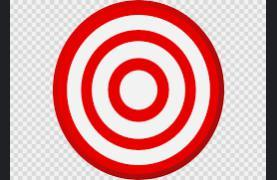target_red: (51, 0, 225, 179)
